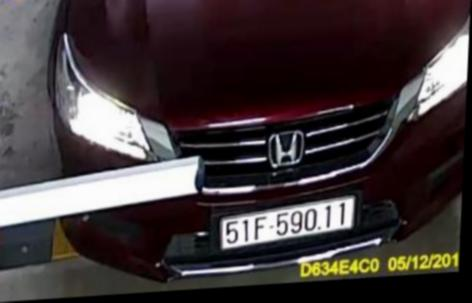License_Plate: (217, 196, 363, 252)
